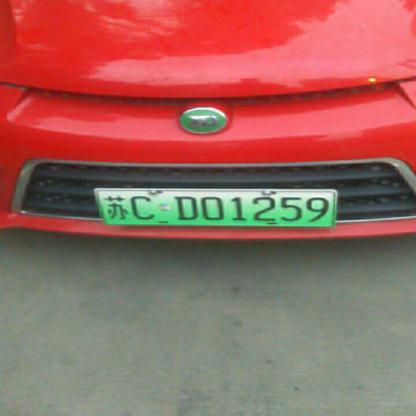lp: (95, 188, 334, 226)
